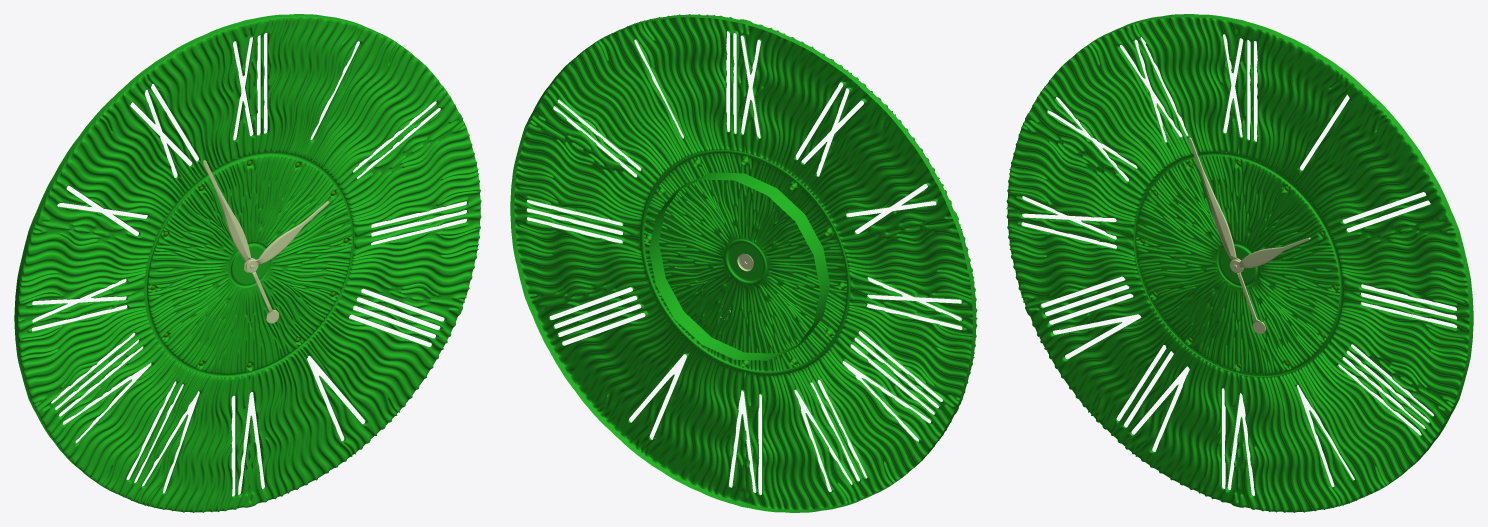
Rendered from Twinkle_silver.obj.
3 views of the same model, side by side, from view 1: azimuth 30°, elevation 25°; view 2: azimuth 150°, elevation 25°; view 3: azimuth 330°, elevation 25° (orthographic).
Visible parts, largest first — view 1: Twinkle_02, Twinkle_01; view 2: Twinkle_02; view 3: Twinkle_02, Twinkle_01.
Part boxes in pixels (left/top/right/bottom): Twinkle_02: left=14, top=14, right=481, bottom=512; Twinkle_01: left=203, top=160, right=329, bottom=323; Twinkle_02: left=510, top=14, right=977, bottom=512; Twinkle_02: left=1006, top=14, right=1473, bottom=512; Twinkle_01: left=1188, top=137, right=1310, bottom=334.
Size of the model in its own units: 35.39 by 35.34 by 2.
